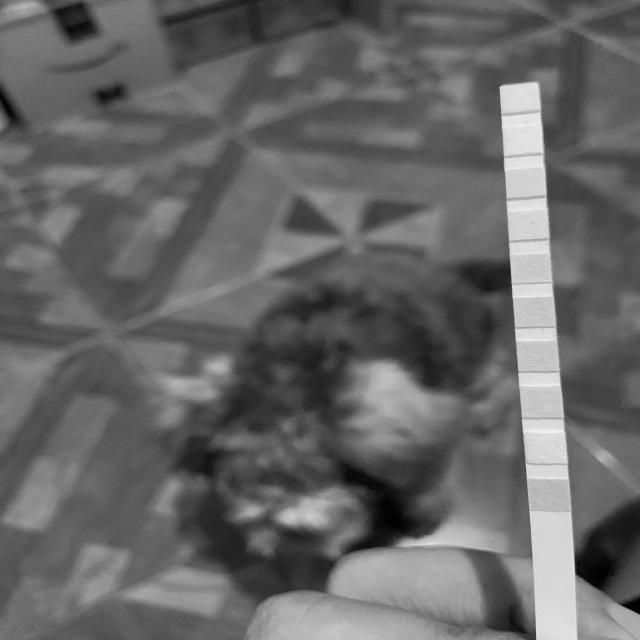Bilirubin: (526, 432, 563, 464)
Blood: (515, 297, 554, 327)
Glucose: (529, 479, 569, 509)
Ketone: (523, 387, 561, 417)
Leukocytes: (503, 86, 538, 111)
Nitrite: (506, 128, 542, 154)
Protein: (509, 211, 548, 240)
SpGravity: (519, 342, 557, 372)
Urobilinogen: (507, 172, 545, 196)
background: (0, 0, 640, 640)
pH: (512, 256, 550, 283)
strip: (499, 81, 578, 640)
